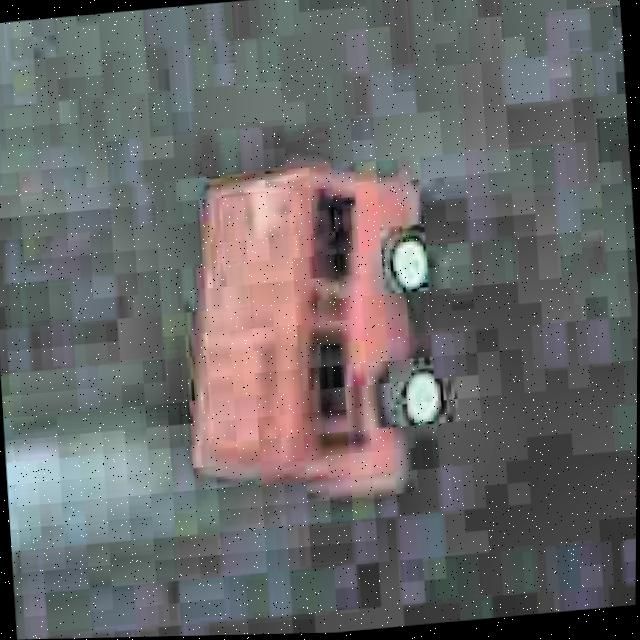bus: (168, 145, 458, 509)
